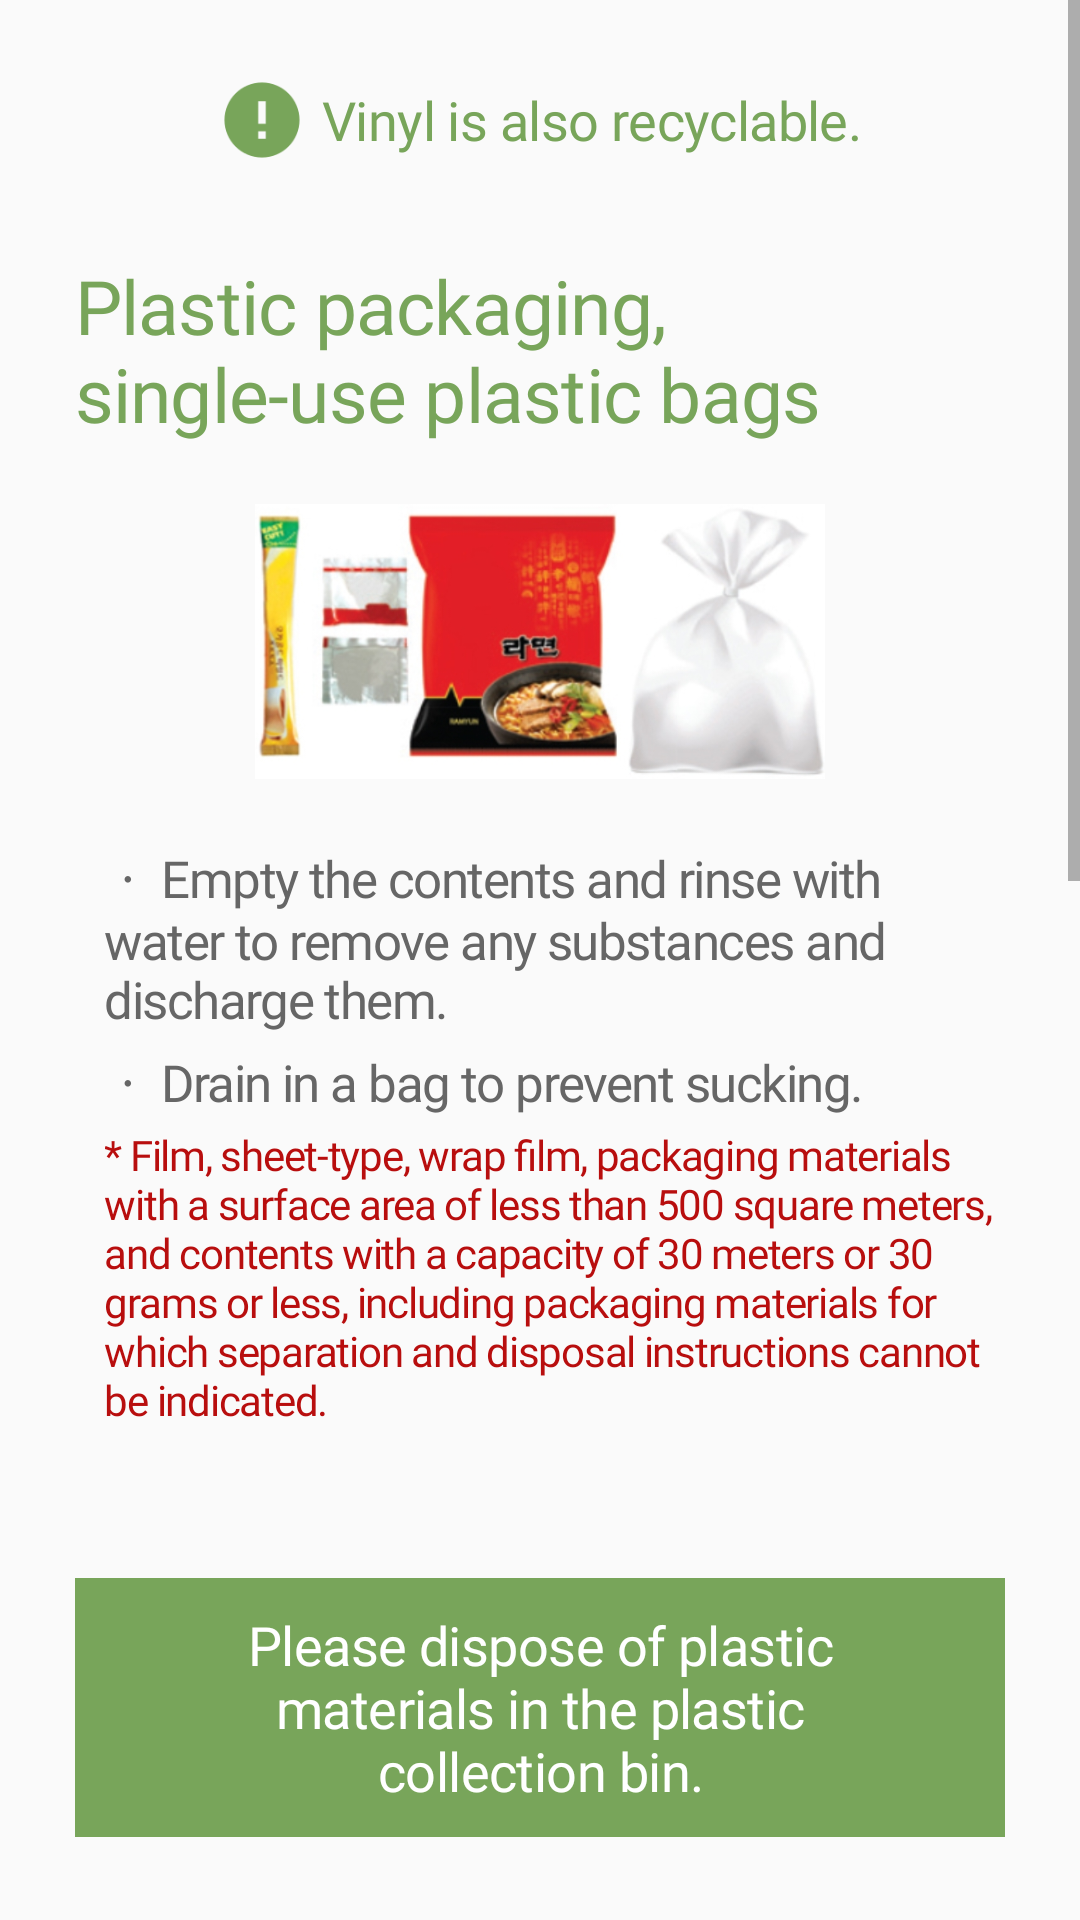

Where to tap for icons on this 1080w x 1920h app screen, as point (x, y):
description error: point (262, 120)
